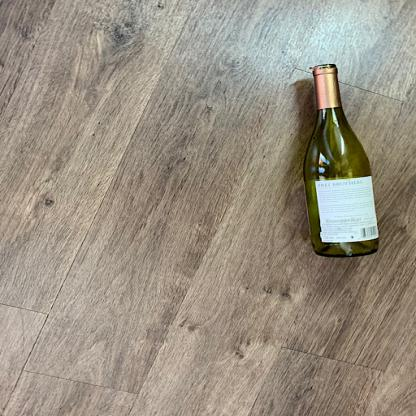trash: (301, 63, 382, 258)
